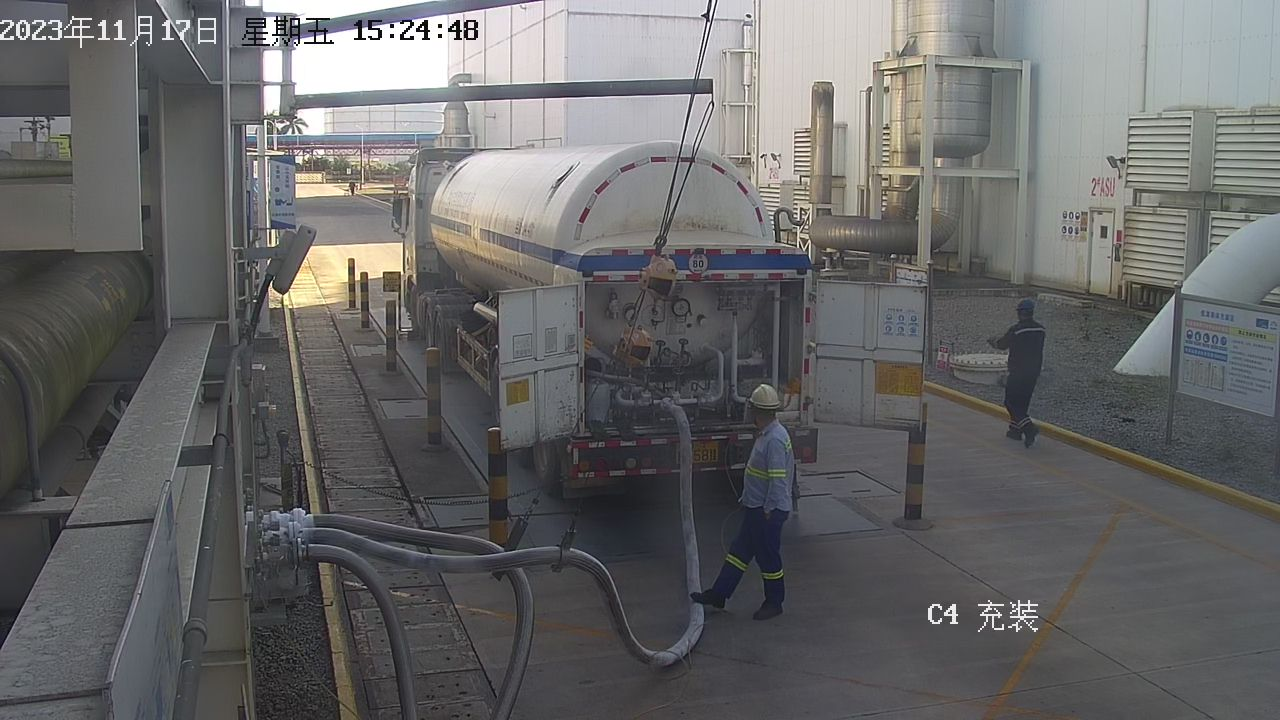Head_with_Helmet: (725, 378, 804, 438), (992, 284, 1046, 325)
Uniform: (699, 424, 834, 628), (971, 316, 1068, 445)
